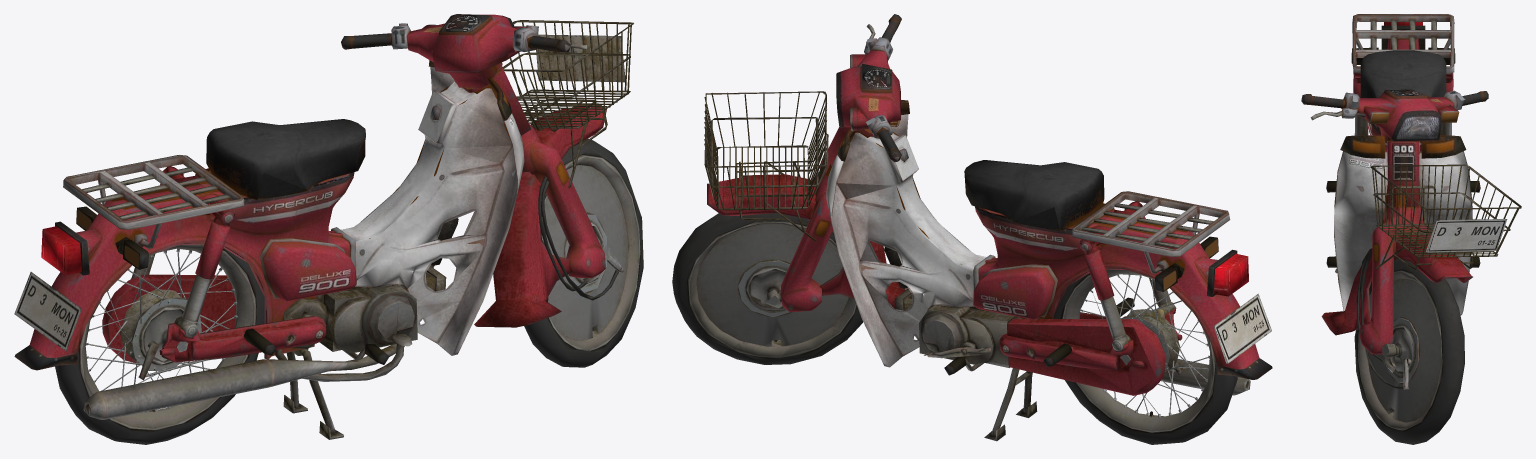
File: super_cub.glb
The picture shows the model from 3 angles, left to right: view 1: azimuth 30°, elevation 25°; view 2: azimuth 150°, elevation 25°; view 3: azimuth 270°, elevation 25°; orthographic projection. The views are drawn at different scales.
Parts seen in each view (by area): view 1: super_cub; view 2: super_cub; view 3: super_cub.
Boxes of the visible parts, bbox=[...] form: super_cub: bbox=[14, 14, 643, 444]; super_cub: bbox=[672, 14, 1272, 444]; super_cub: bbox=[1301, 14, 1521, 444].
Bounding box in the file's own units: 1.85 × 1.04 × 0.6701.
2 materials, 2 textured.
